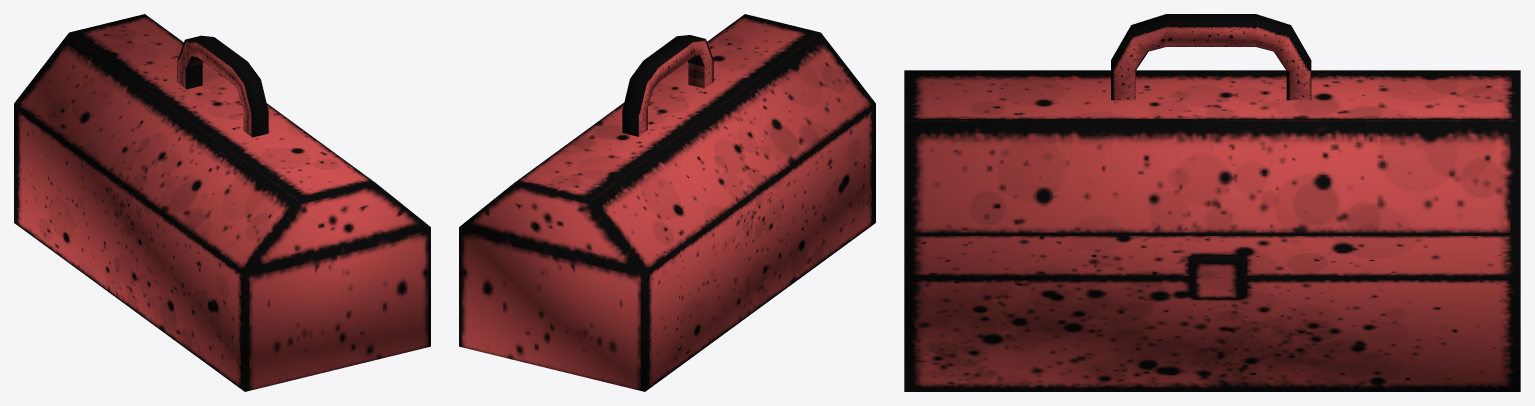
The model's file is toolbox.obj.
3 views of the same model, side by side, from view 1: azimuth 30°, elevation 25°; view 2: azimuth 150°, elevation 25°; view 3: azimuth 270°, elevation 25° (orthographic). The views are drawn at different scales.
Parts seen in each view (by area): view 1: toolbox; view 2: toolbox; view 3: toolbox.
Boxes of the visible parts, box(x1,y1,x2,y2) form: toolbox: box(14, 14, 430, 391); toolbox: box(459, 14, 875, 391); toolbox: box(904, 14, 1520, 391).
Size of the model in its own units: 0.9665 by 1.12 by 2.
